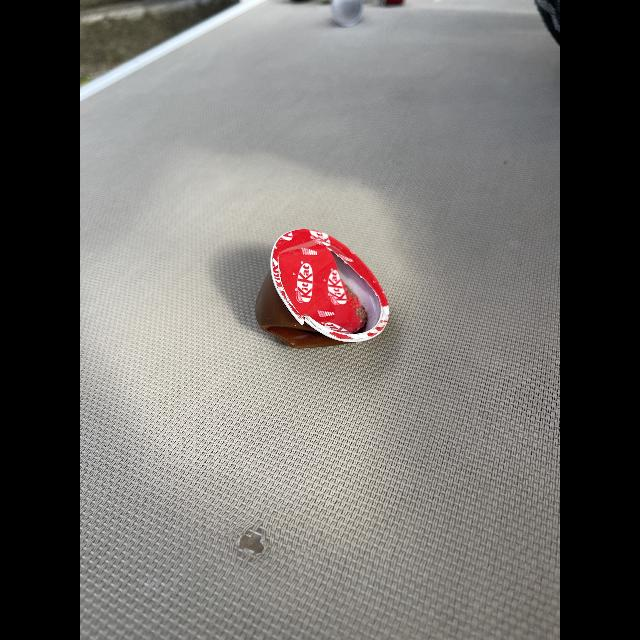damaged_capsule: (250, 216, 410, 364)
